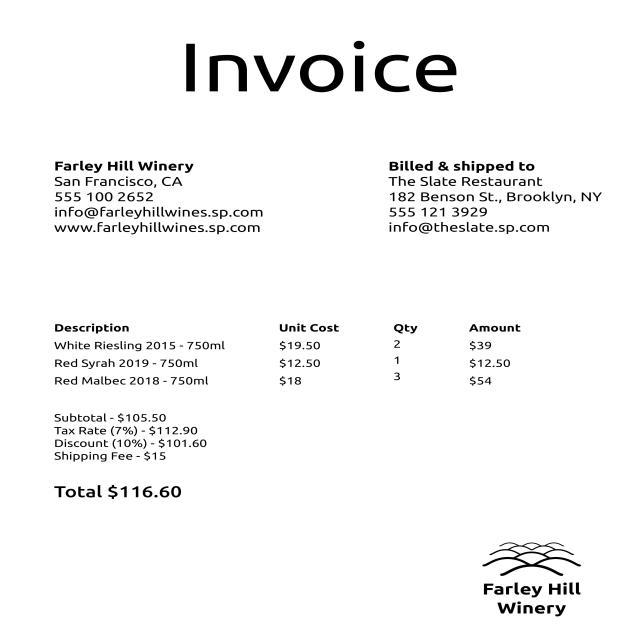customer_address: (386, 188, 607, 221)
customer_name: (385, 173, 550, 190)
invoice_subtotal: (114, 409, 176, 425)
invoice_total: (106, 478, 189, 507)
item_description: (50, 336, 231, 394)
item_quantity: (380, 336, 412, 390)
item_total_price: (464, 335, 520, 390)
item_unit_price: (270, 335, 329, 394)
supplier_address: (50, 175, 188, 189)
supplier_name: (48, 156, 200, 176)
tax_amount: (146, 425, 200, 437)
tax_rate: (115, 426, 134, 437)
